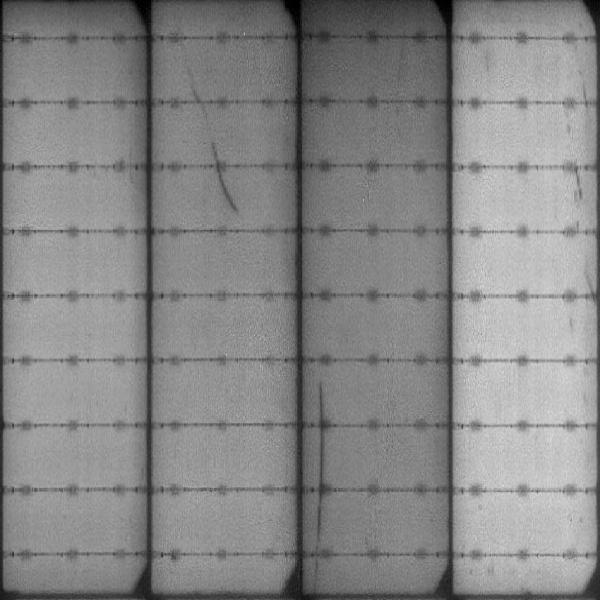scratch: (314, 384, 331, 559), (208, 166, 244, 214), (554, 160, 586, 209), (209, 132, 225, 166), (188, 76, 202, 99)
